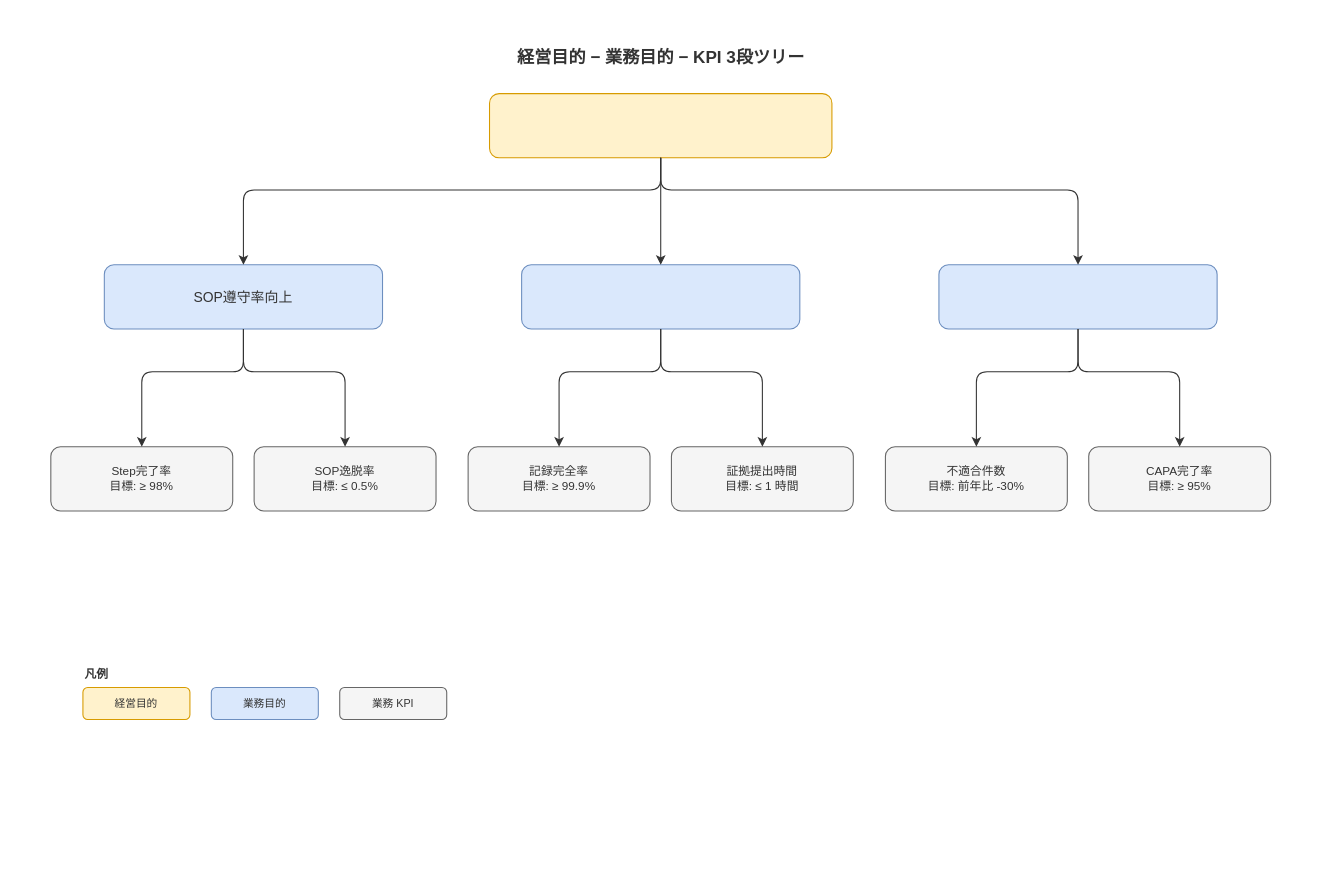
Image size: 1320x892. Some labels were removed from this diagram. The shapes that lost their labels are listed below. From the top down, each one's centre as x and y in pixels, then its label:
At point 660,125: "製造品質と生産効率の両立".
At point 660,296: "トレサビ記録完全性".
At point 1077,296: "不適合再発防止".
